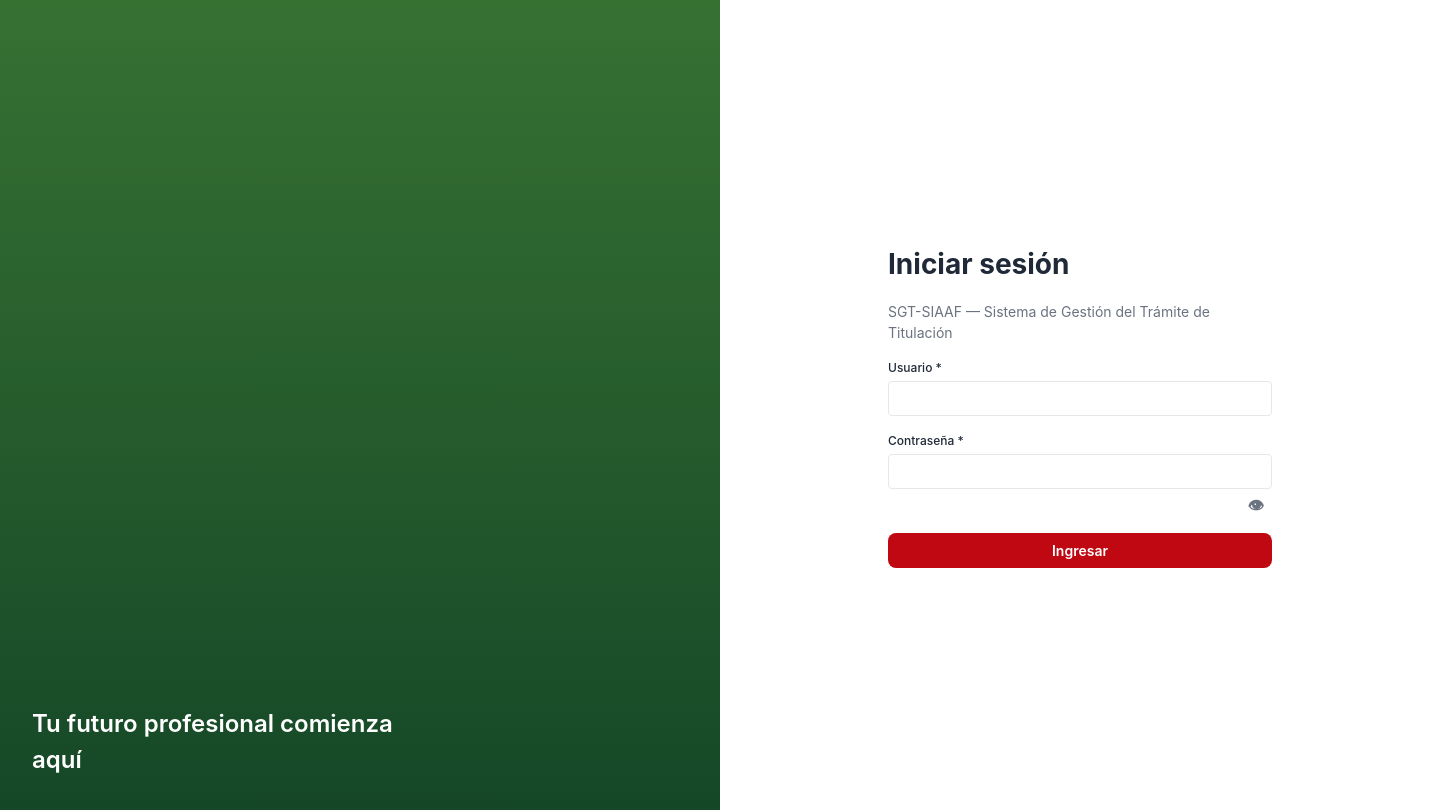
it: LoginPage (V-01, integración real) › muestra un mensaje de validación ante un 400 del backend
The width and height of the screenshot is (1440, 810).
Type "estudiante.demo" into the field labelled "Usuario *".
click(1080, 398); type("estudiante.demo")  # box [888, 380, 1272, 416]
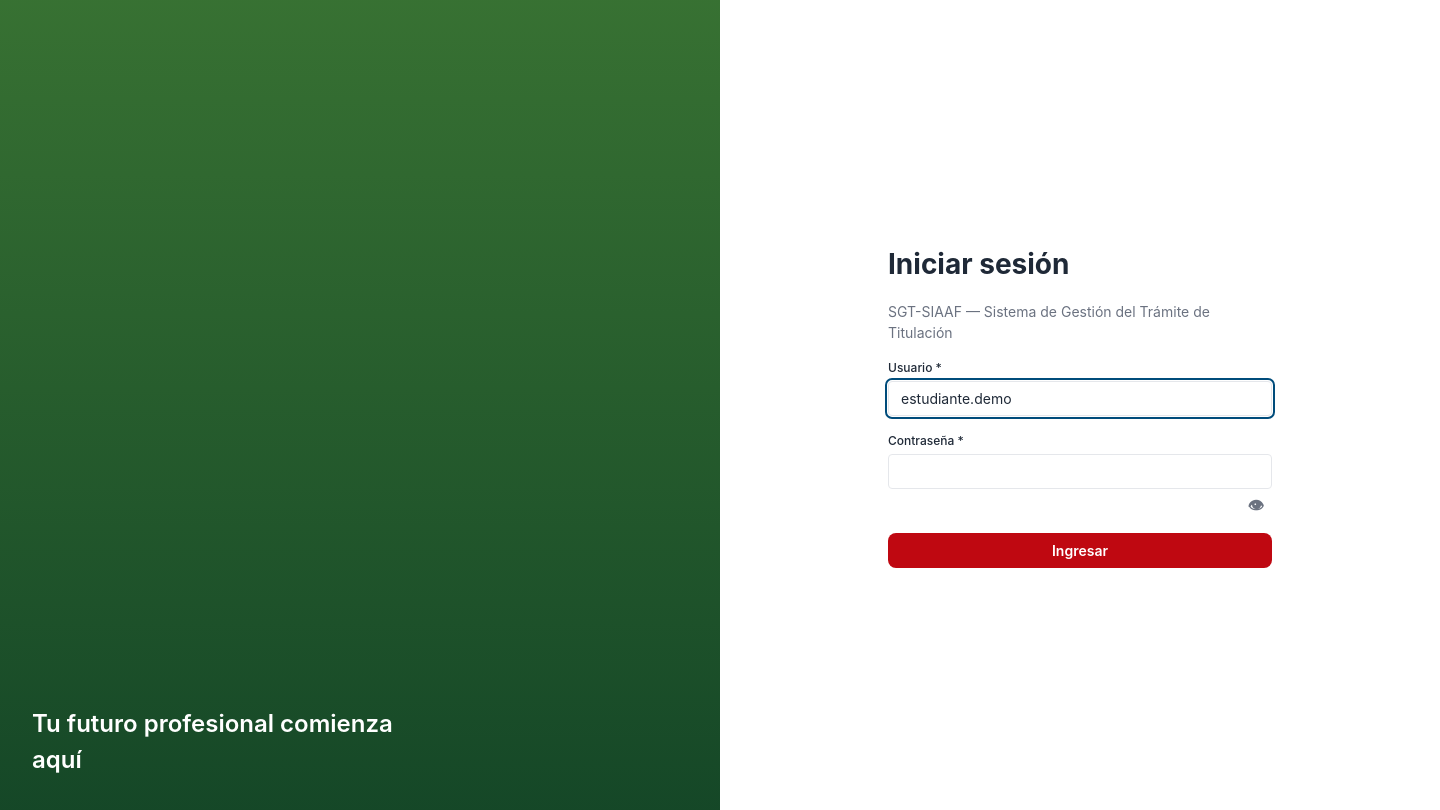
Type "demo-valida" into the password field labelled "Contraseña *".
click(1080, 471); type("demo-valida")  # box [888, 454, 1272, 488]
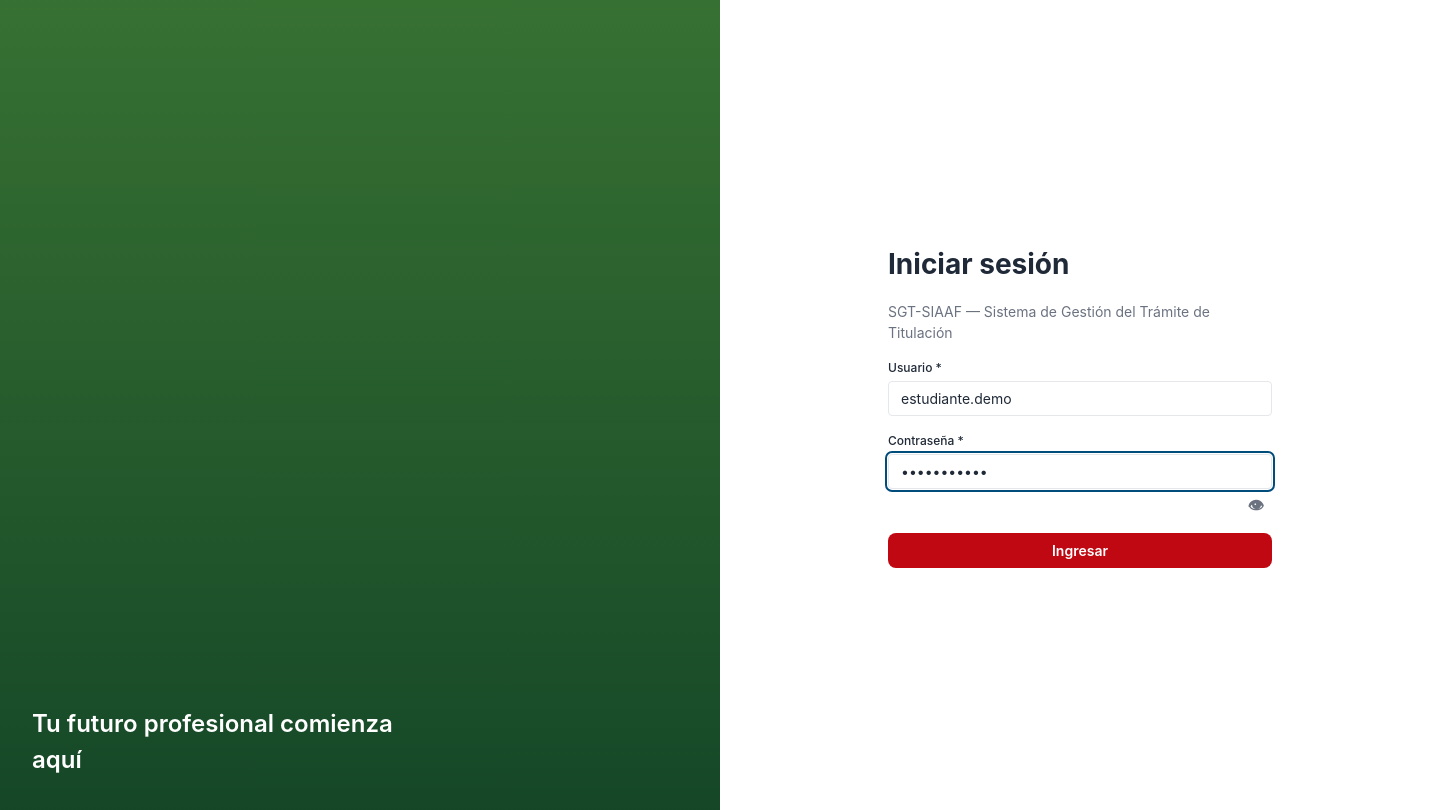
Click the button "Ingresar".
click(1080, 550)  # box [888, 532, 1272, 568]
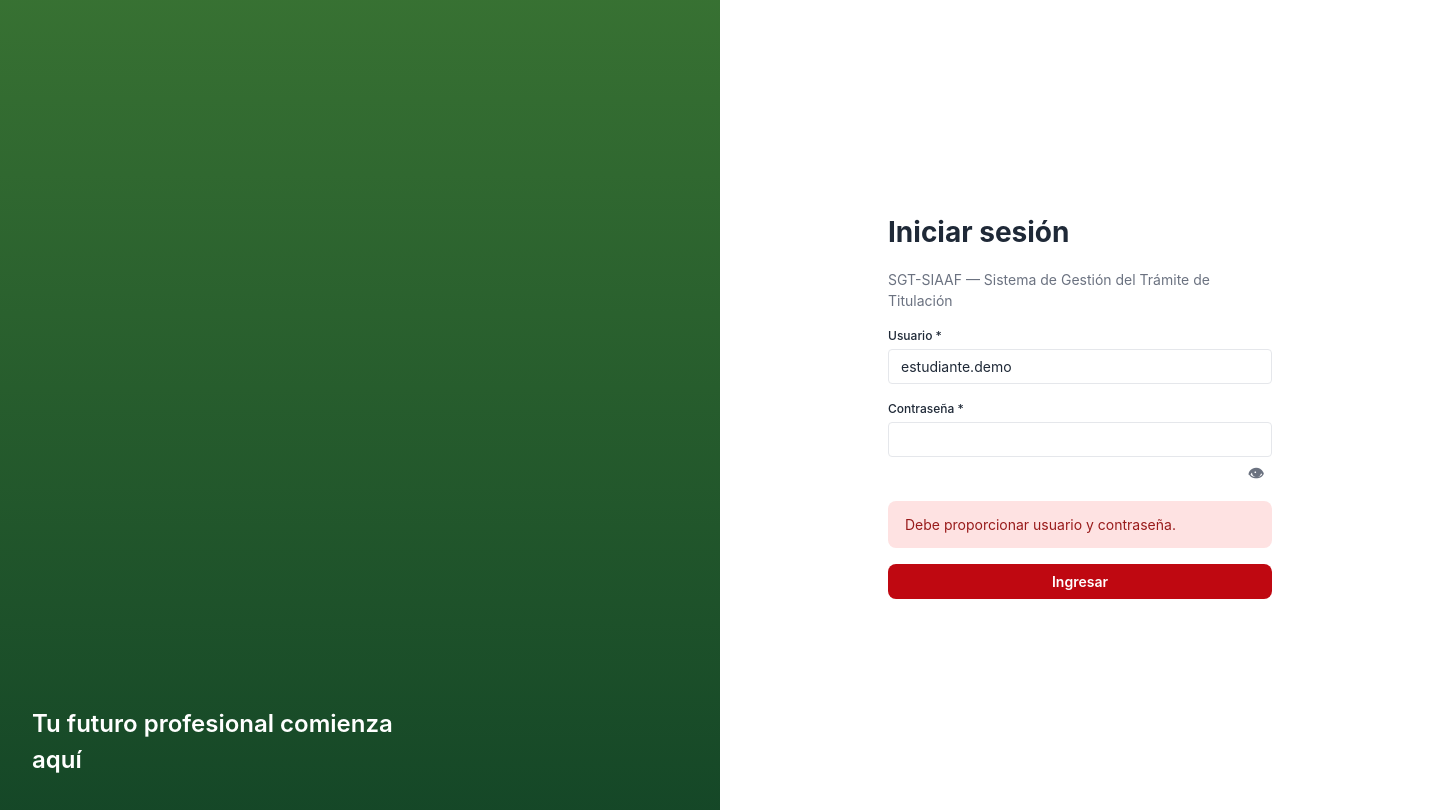
Now the message reads "Debe proporcionar usuario y contraseña.", box [905, 516, 1176, 533]
